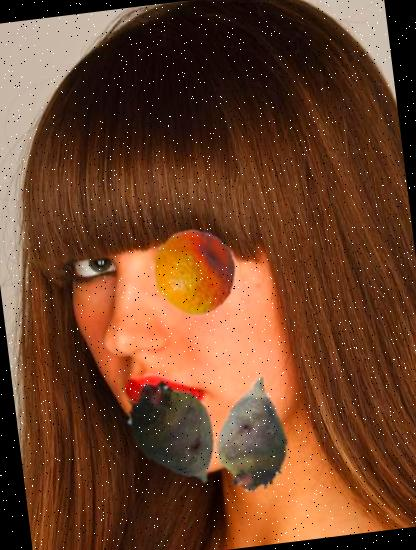Beetroot: (185, 368, 320, 503), (109, 366, 243, 500)
Mandarine: (148, 224, 242, 318)
